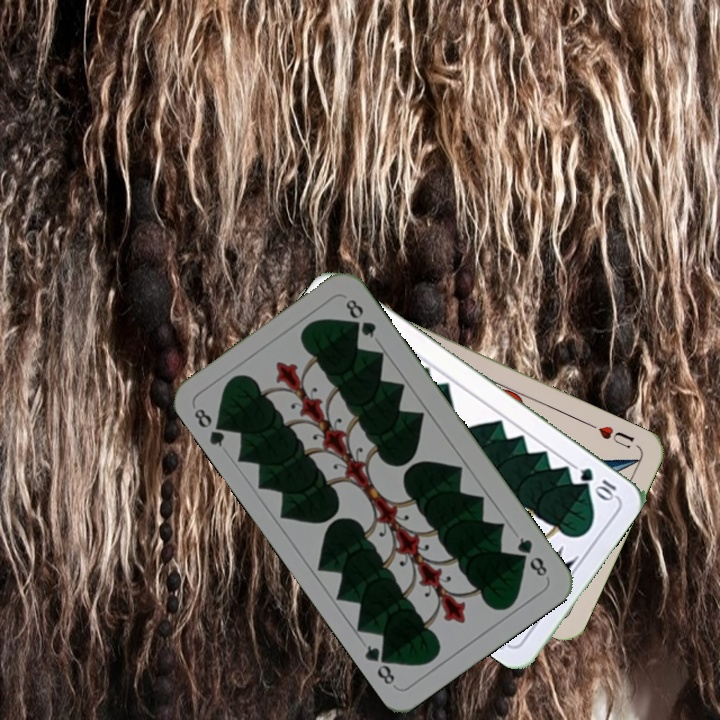G10: (575, 463, 619, 503)
G8: (190, 404, 231, 450), (512, 533, 550, 579)
HU: (584, 419, 637, 452)
